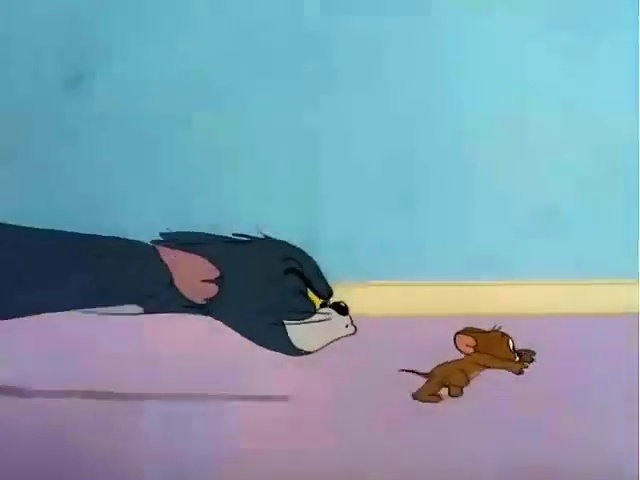jerry: (391, 299, 554, 420)
tom: (8, 183, 375, 399)
